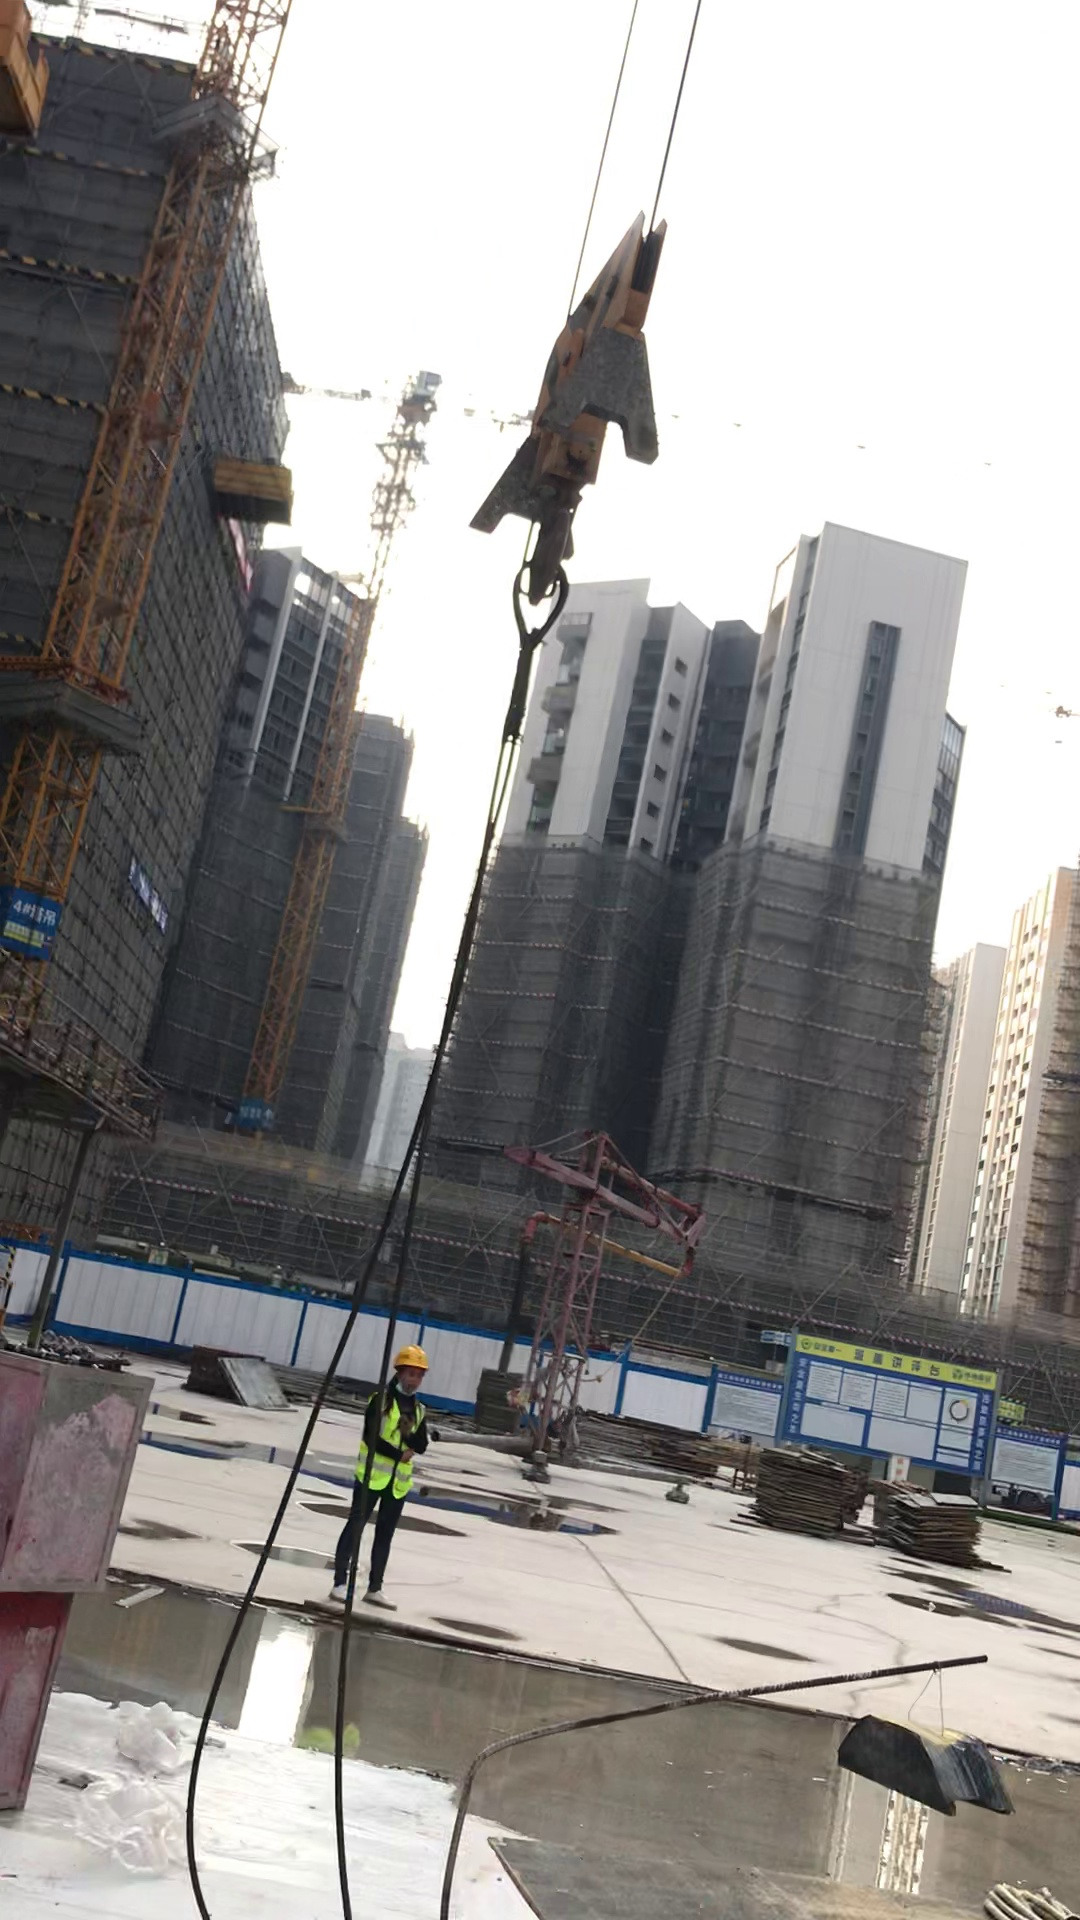board: (876, 1474, 988, 1567), (754, 1442, 856, 1539)
helmet: (392, 1341, 433, 1371)
hook: (464, 238, 705, 649)
person: (304, 1331, 480, 1610)
slogan: (782, 1356, 812, 1437), (971, 1392, 994, 1470)
vest: (353, 1386, 421, 1496)
